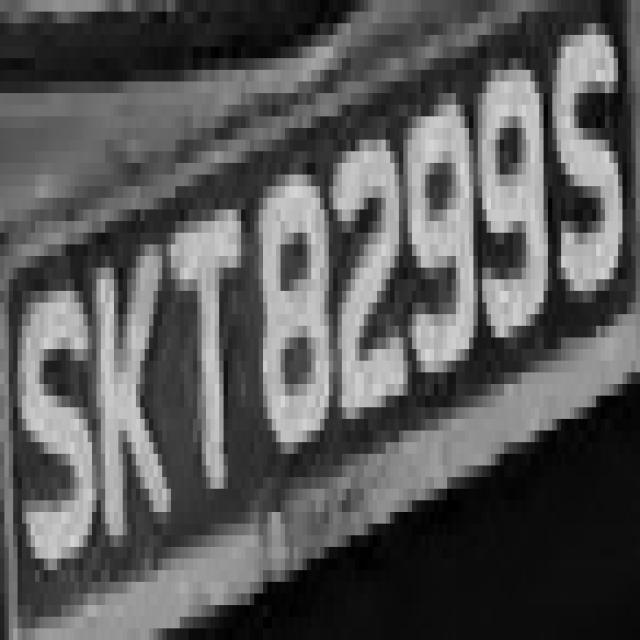2: (320, 104, 408, 430)
8: (245, 140, 342, 466)
9: (460, 82, 552, 430), (394, 82, 474, 430)
K: (88, 221, 175, 535)
S: (18, 256, 92, 582), (548, 47, 636, 314)
T: (162, 221, 254, 500)
